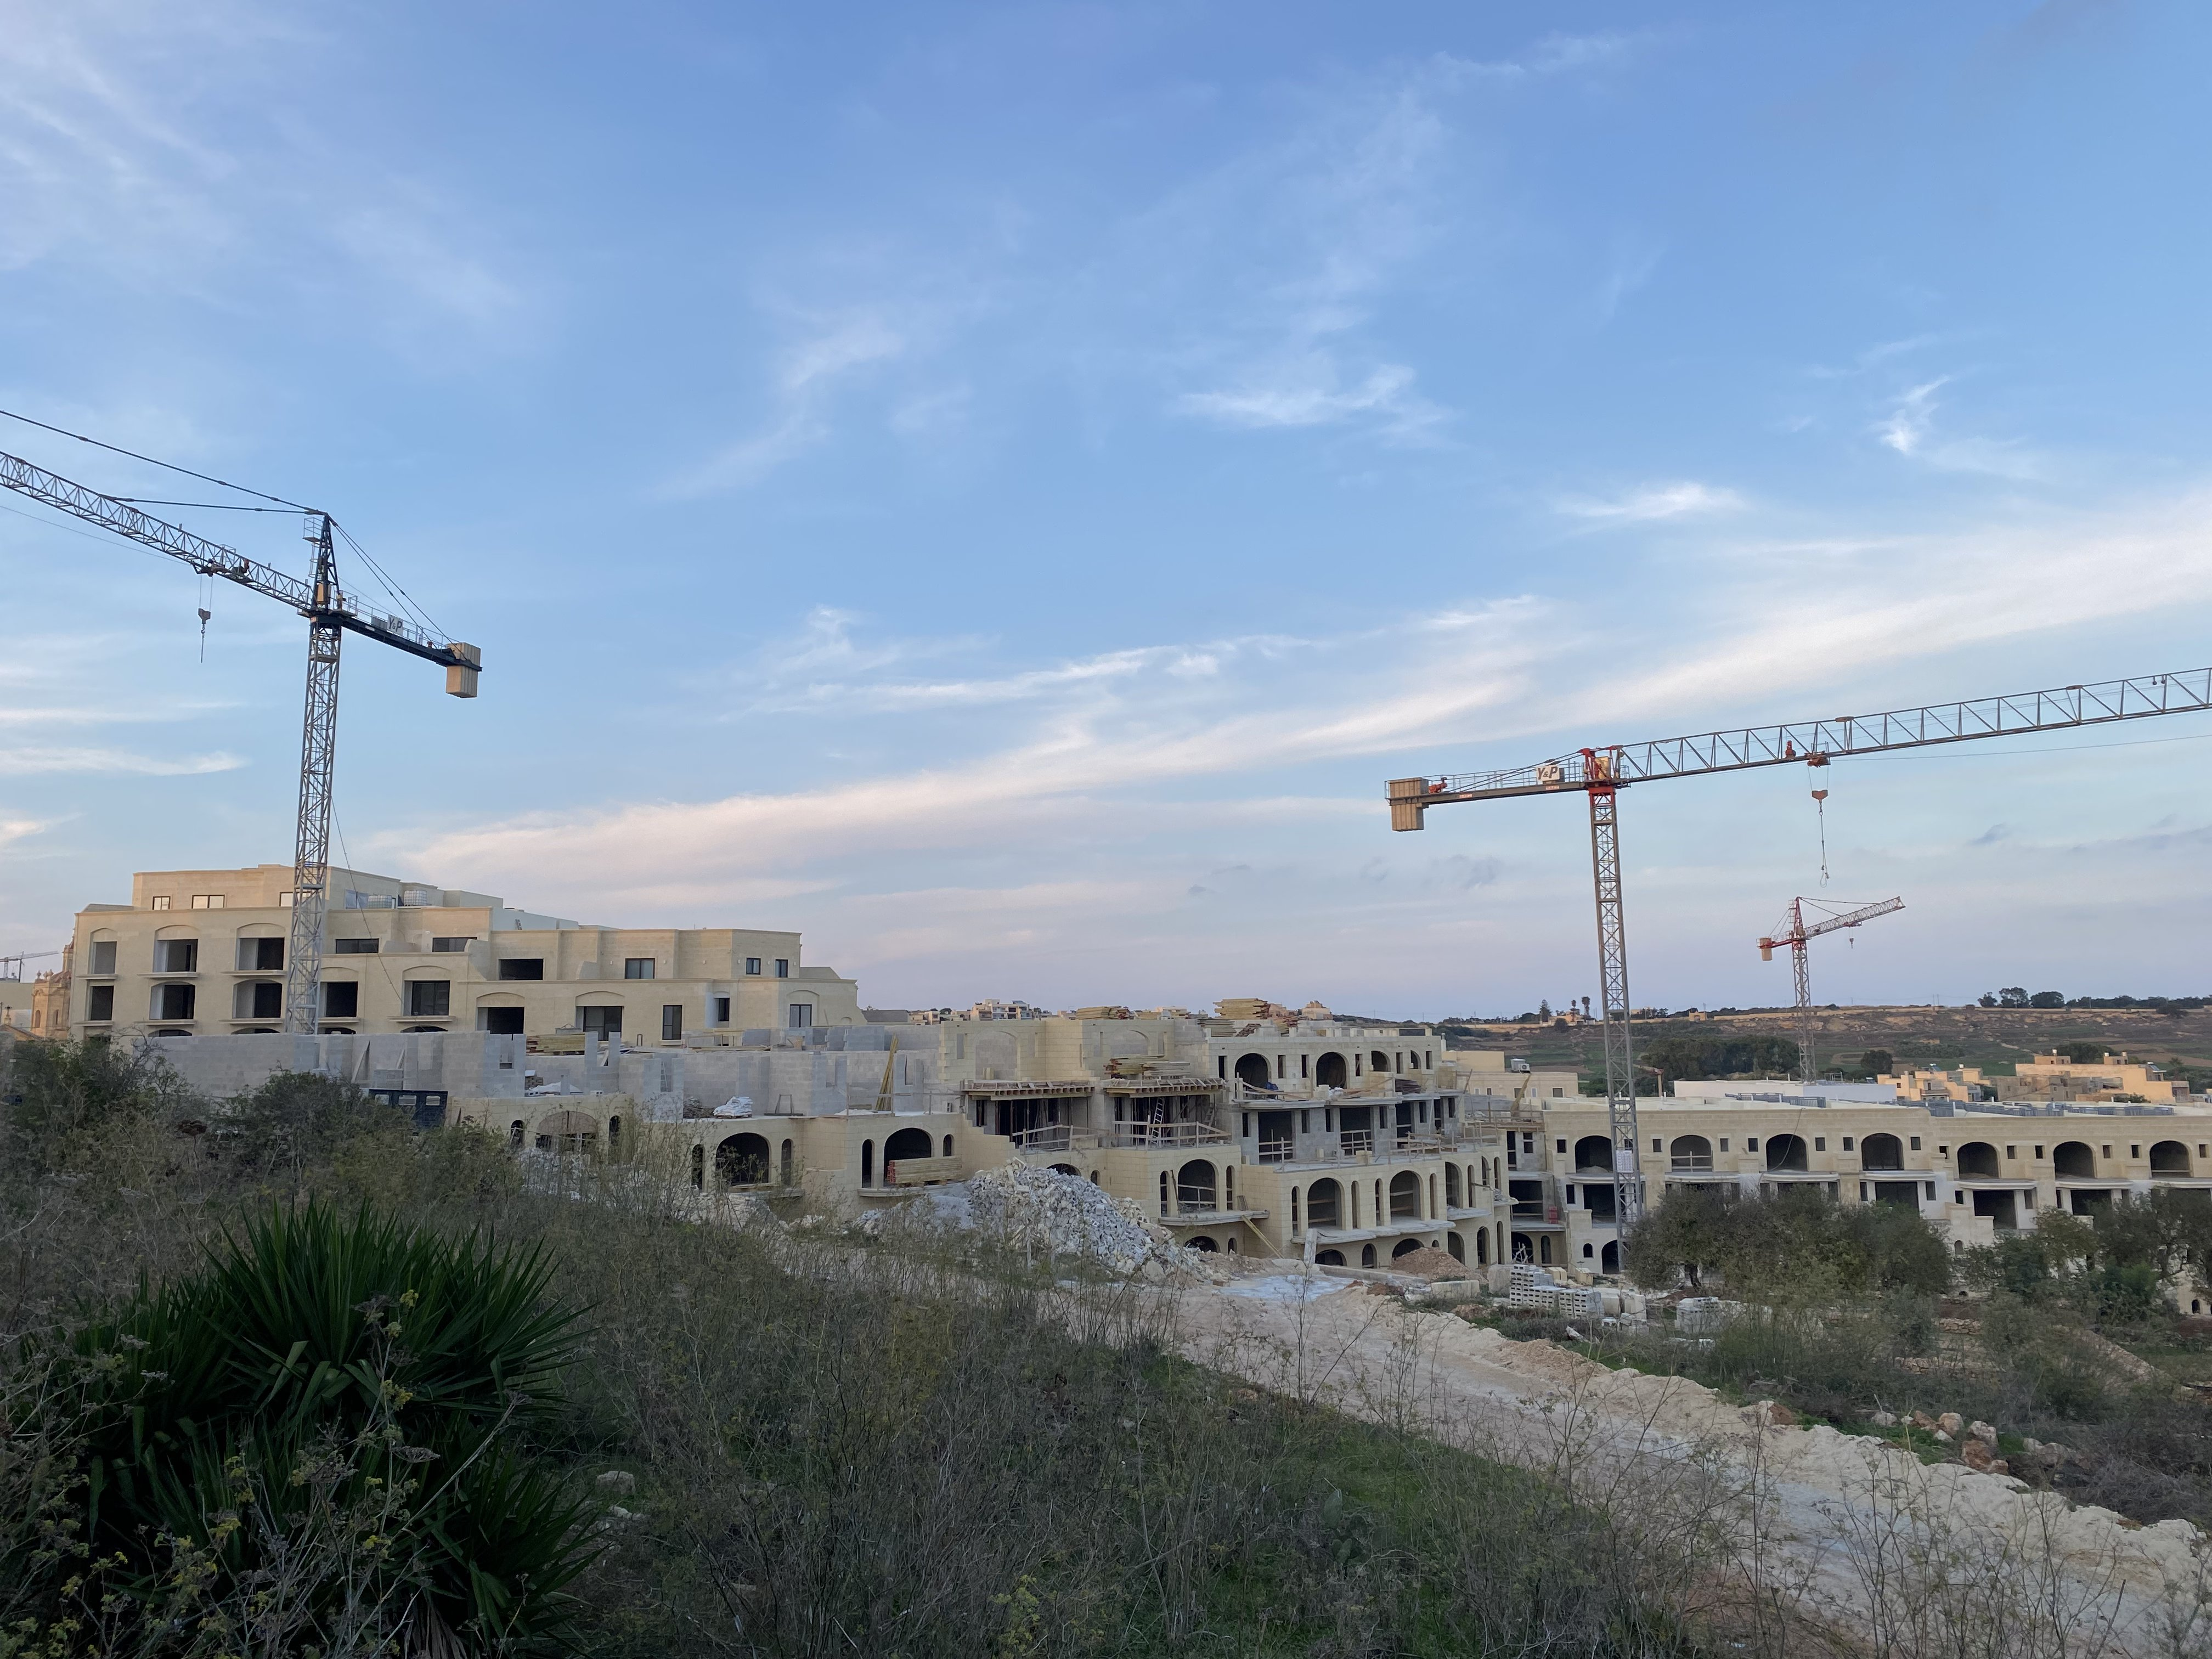crane: (1331, 633, 2207, 943), (0, 338, 482, 842), (1688, 877, 1959, 986)
